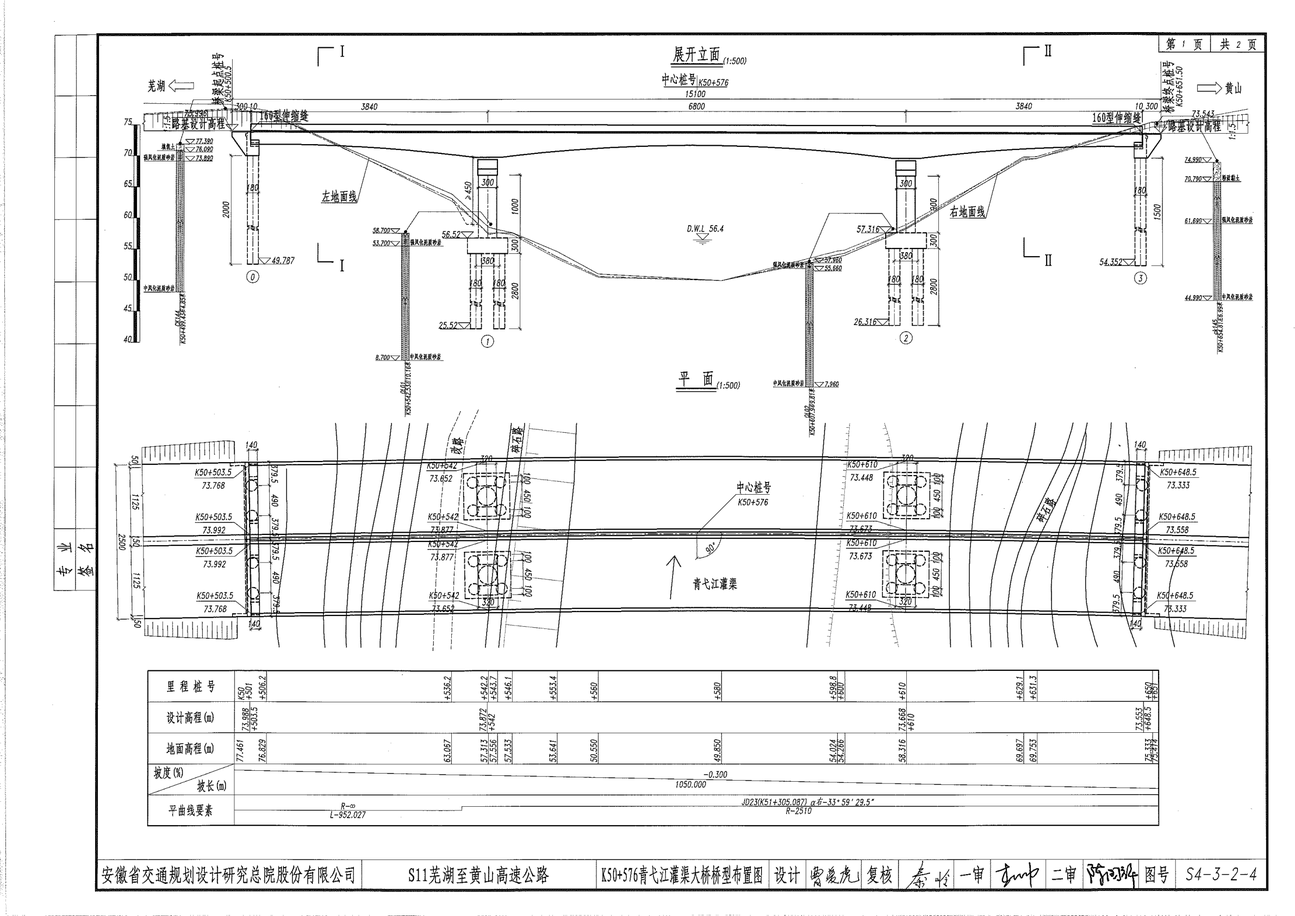A: (120, 41, 1275, 363)
